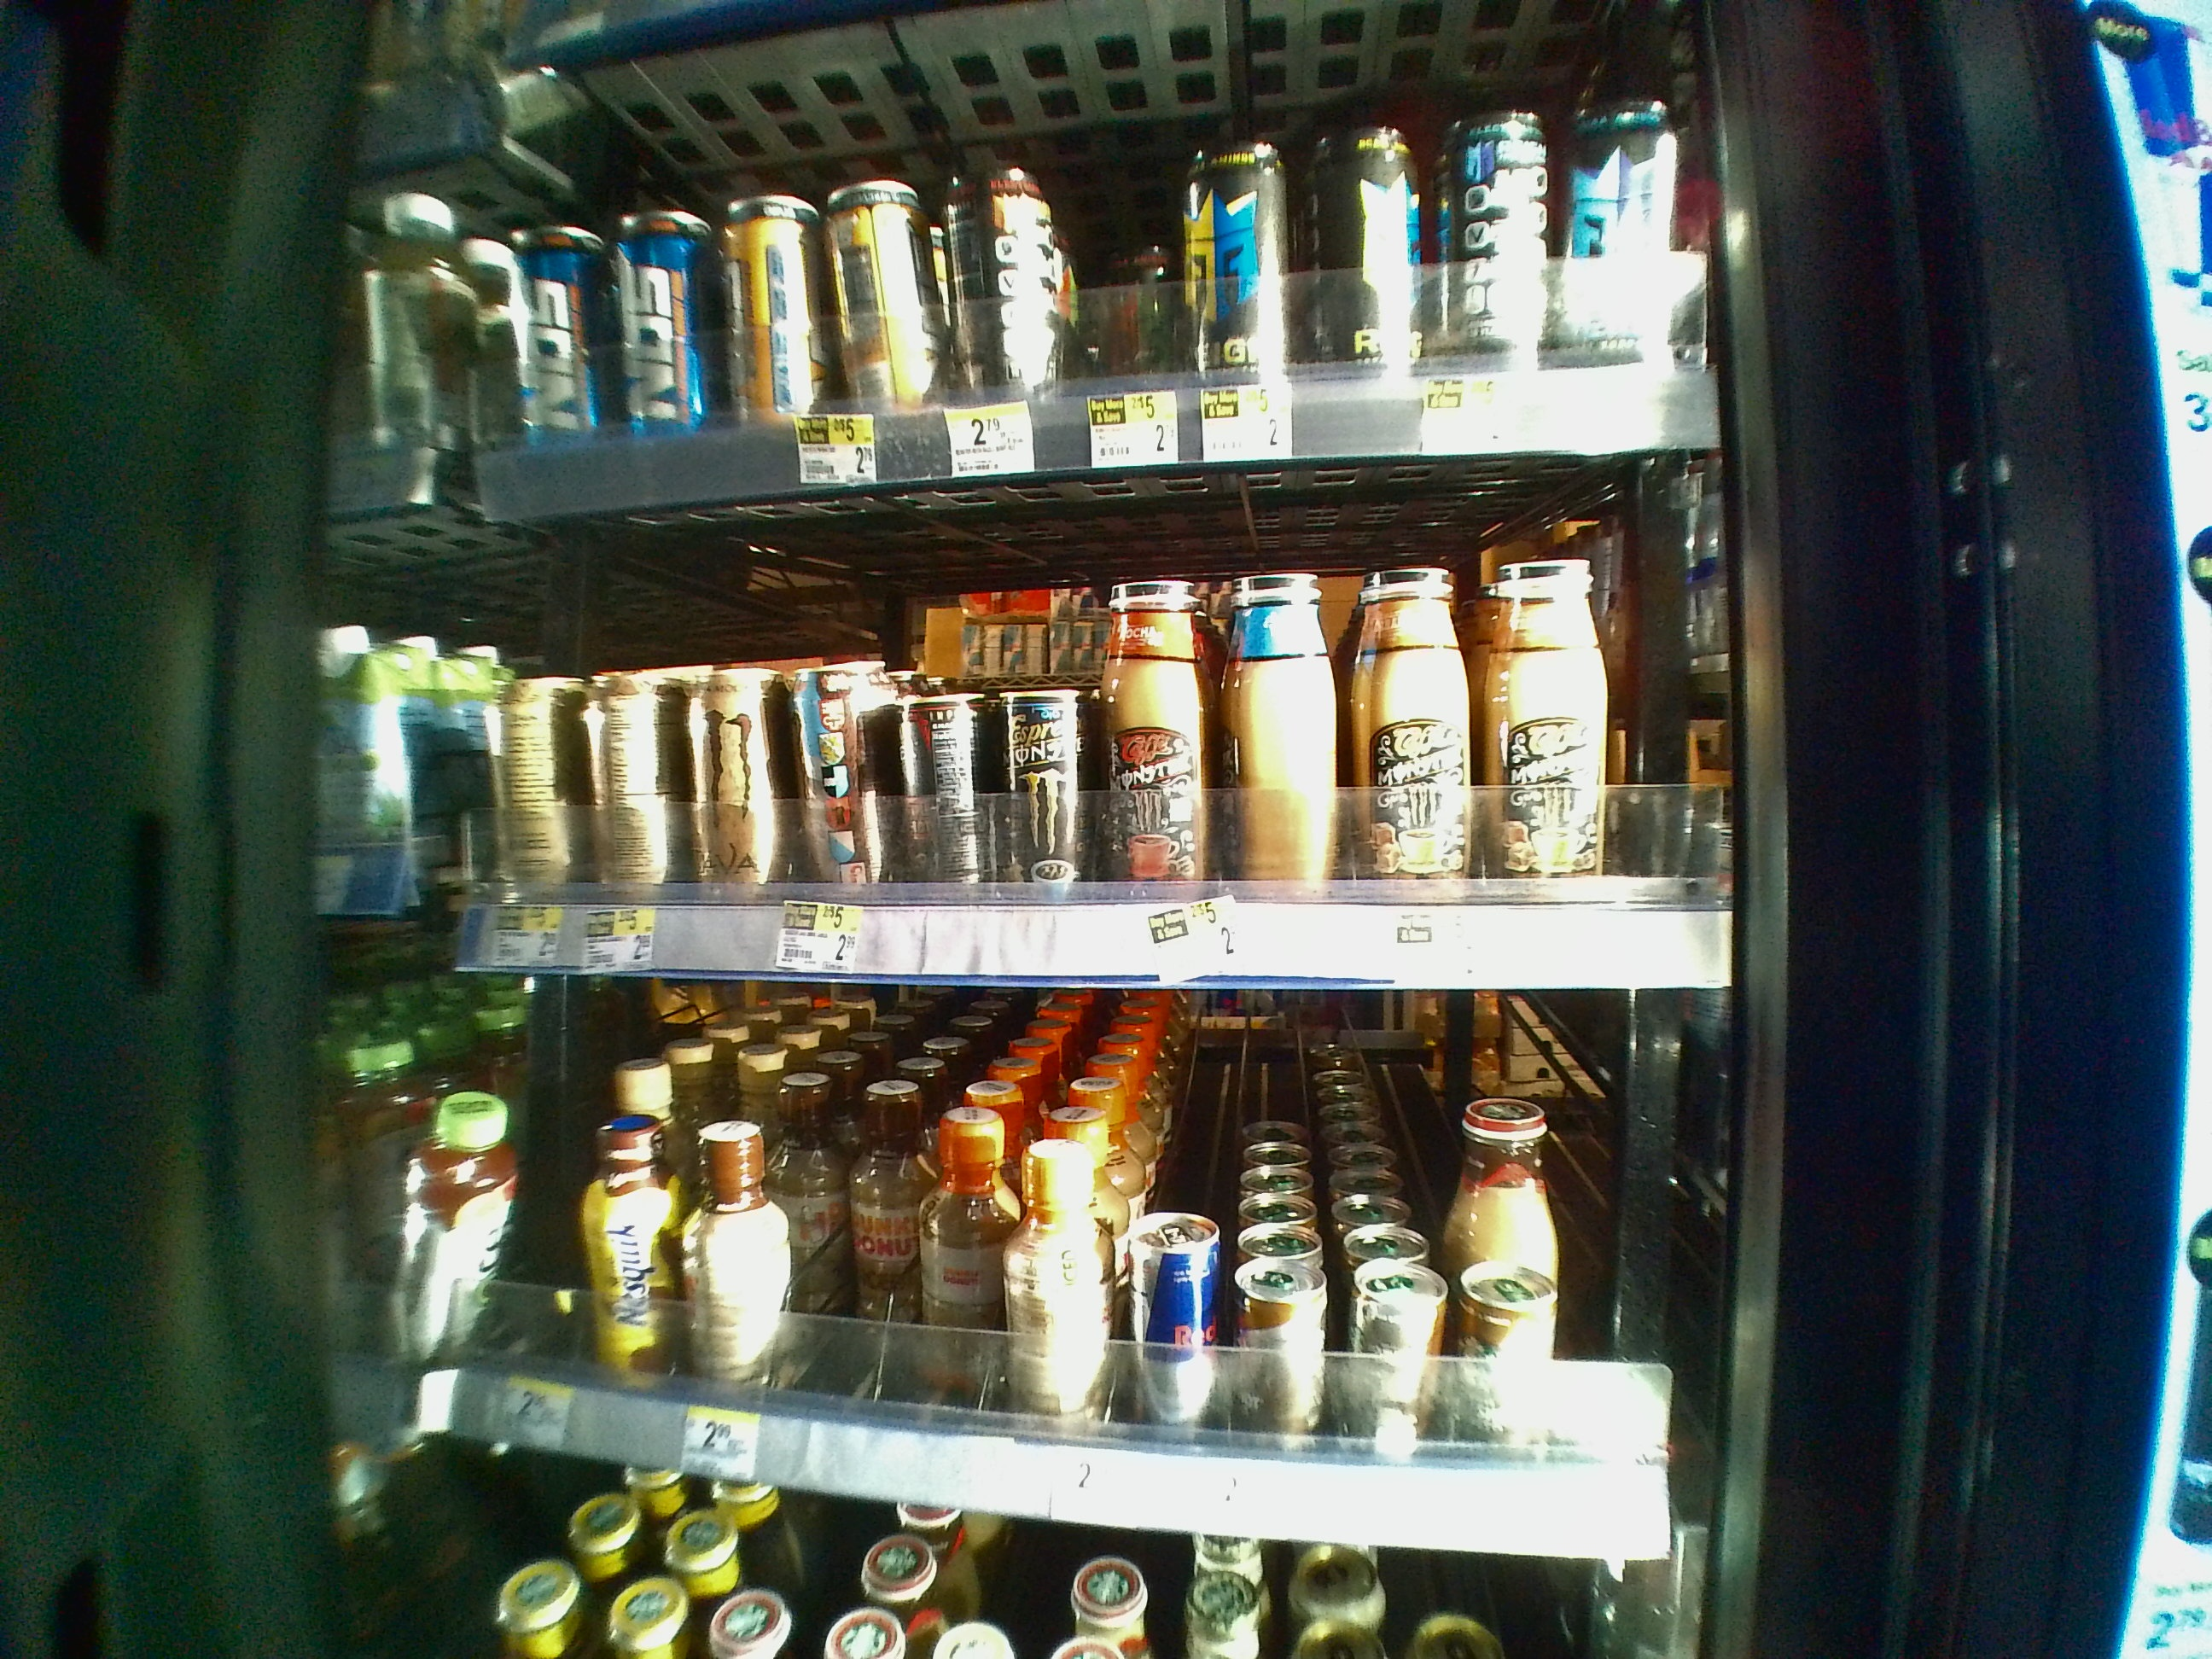shelf: (333, 488, 1740, 985)
